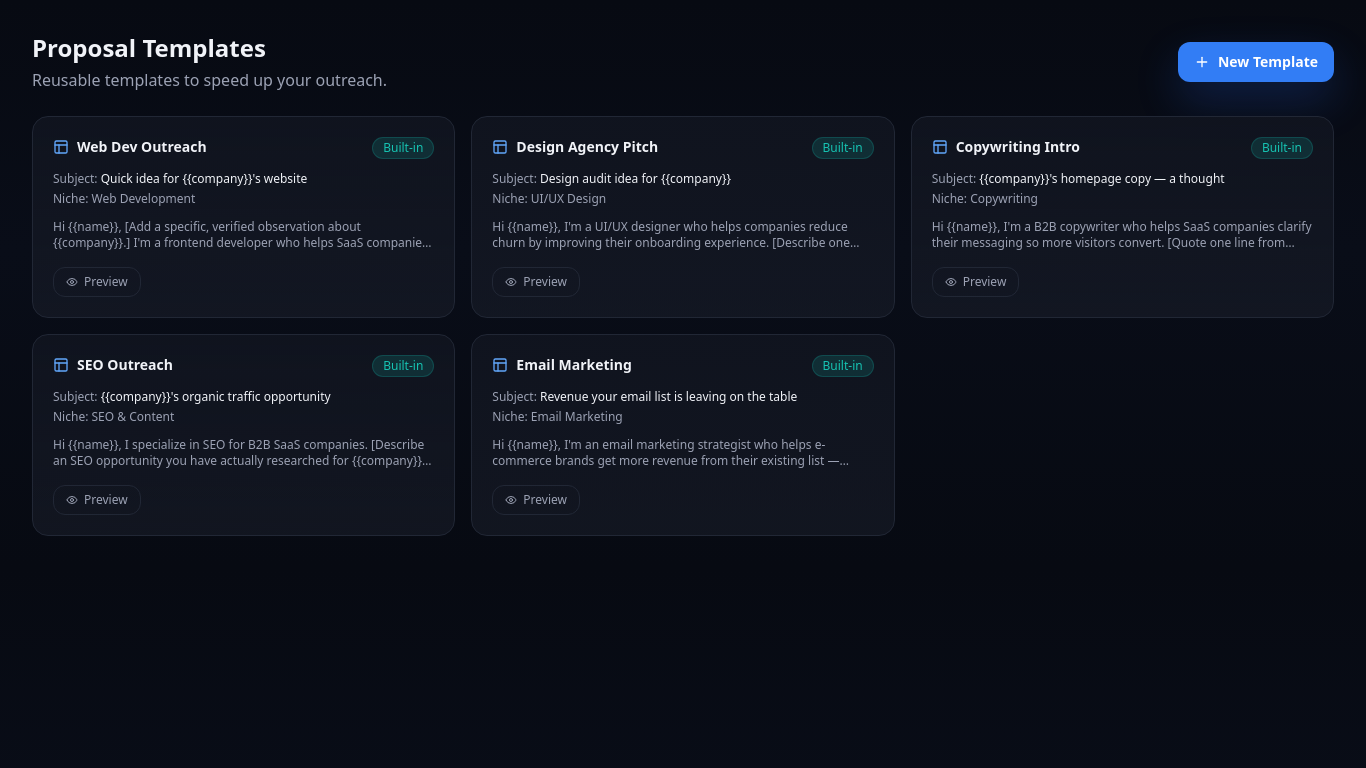
Scenario: keeps an unsaved draft when creation fails
The width and height of the screenshot is (1366, 768).
Expected: the text "Web Dev Outreach" is shown, [77,137,207,157]
Click the button "New Template" at (1256, 62), box [1178,42,1334,82]
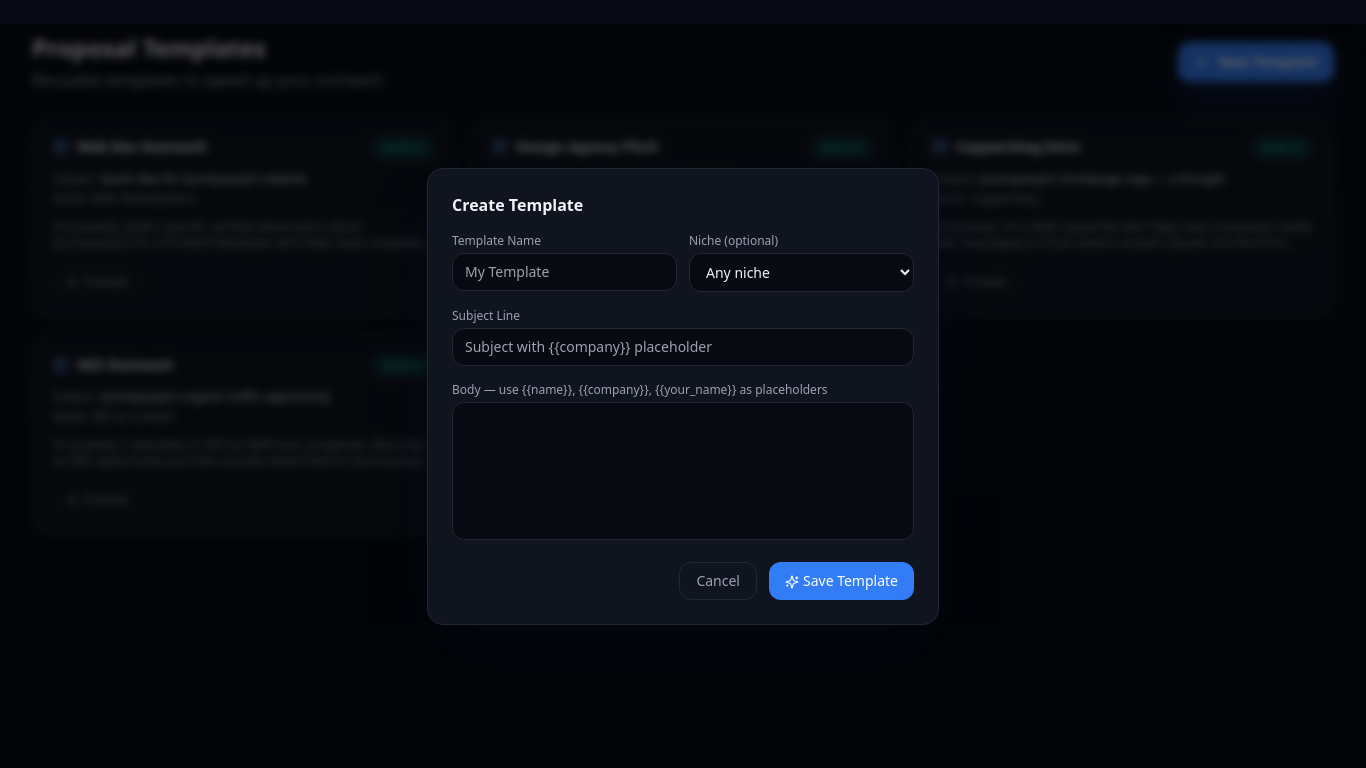
Type "My draft" into the field named "Template Name" at (564, 272), box [452,252,677,290]
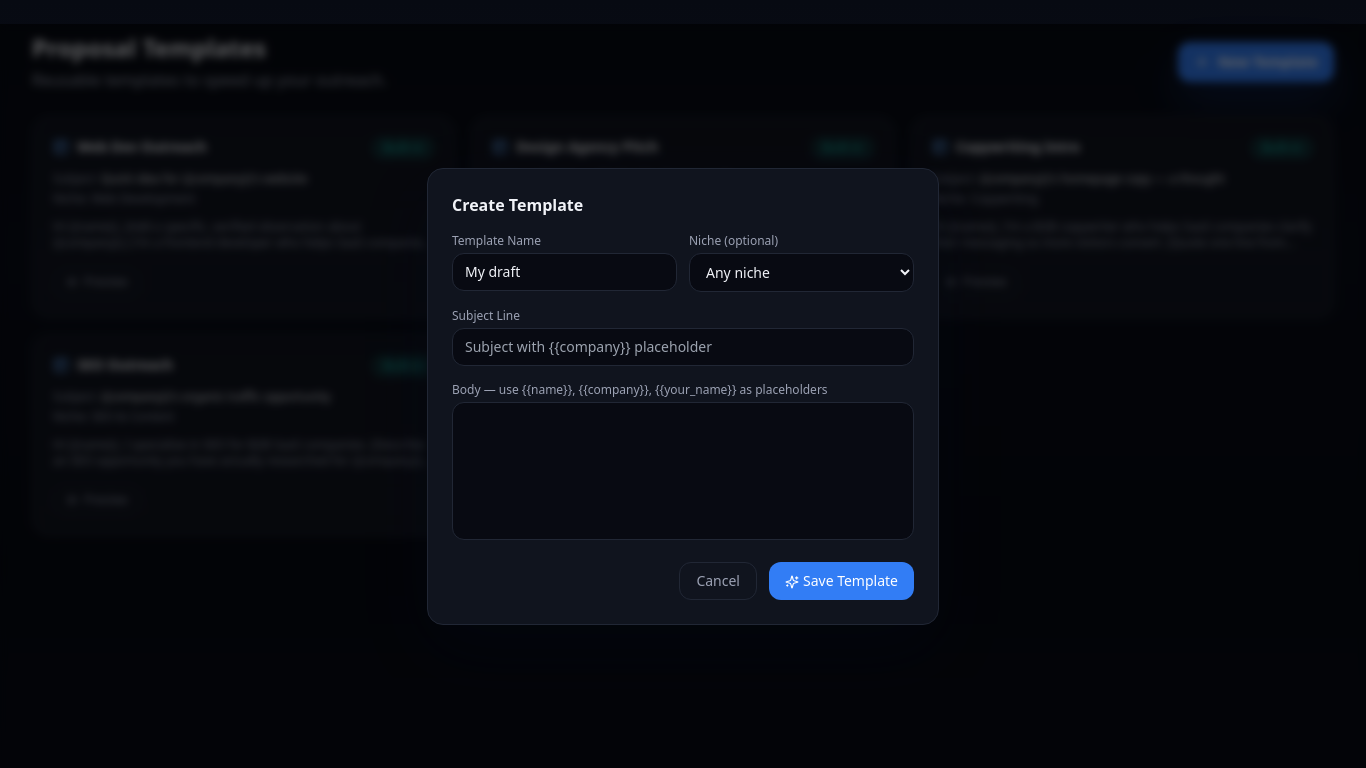
Type "A useful subject" into the field named "Subject Line" at (683, 346), box [452,328,914,366]
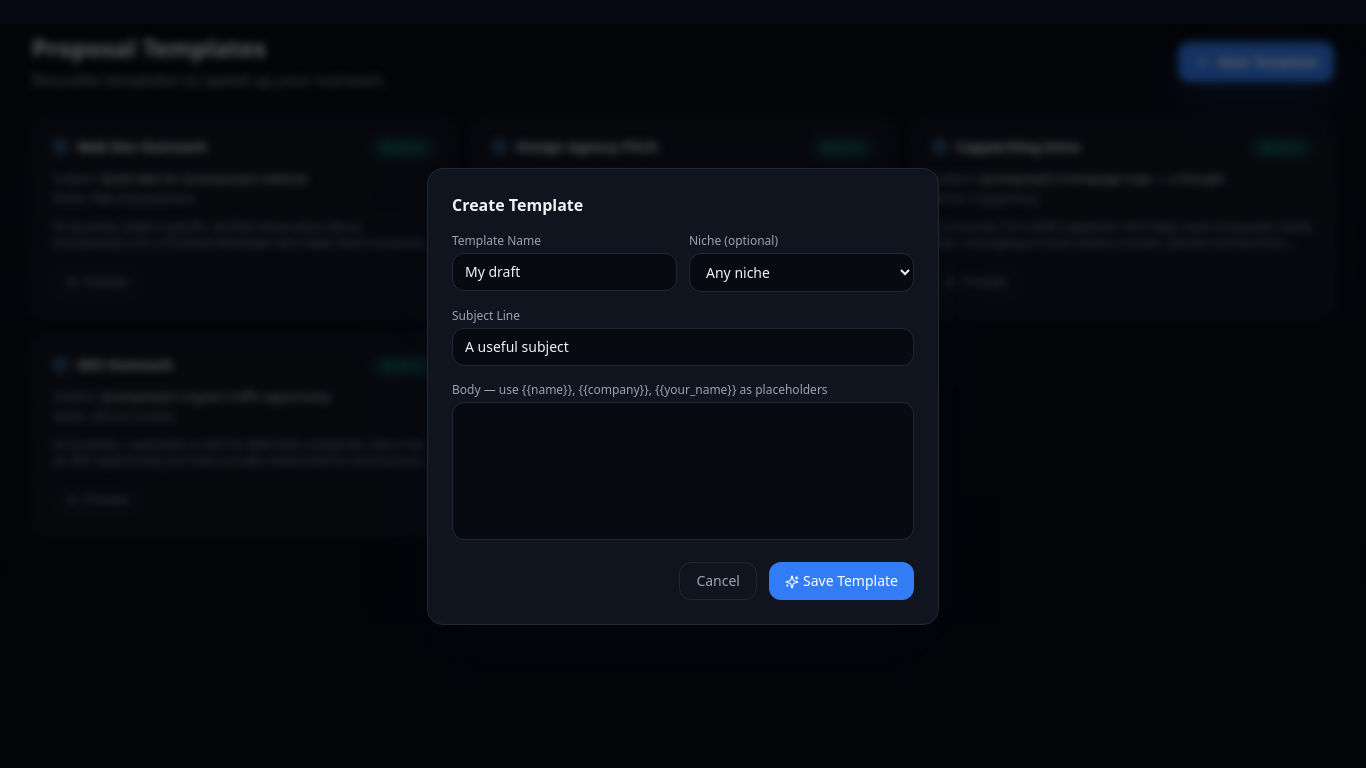
Type "My original draft text" into the text box named "Template Body" at (683, 470), box [452,402,914,540]
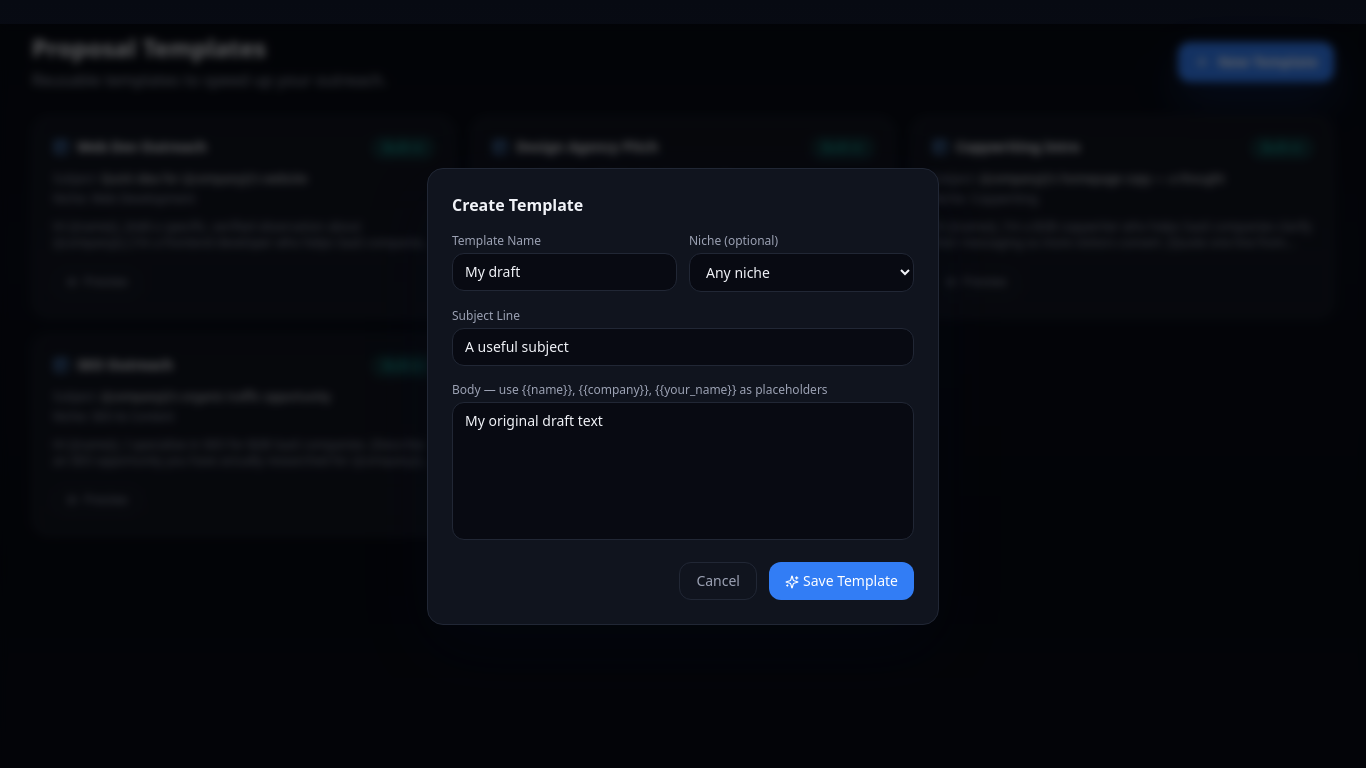
Click the button "Save Template" at (842, 580), box [769,562,914,600]
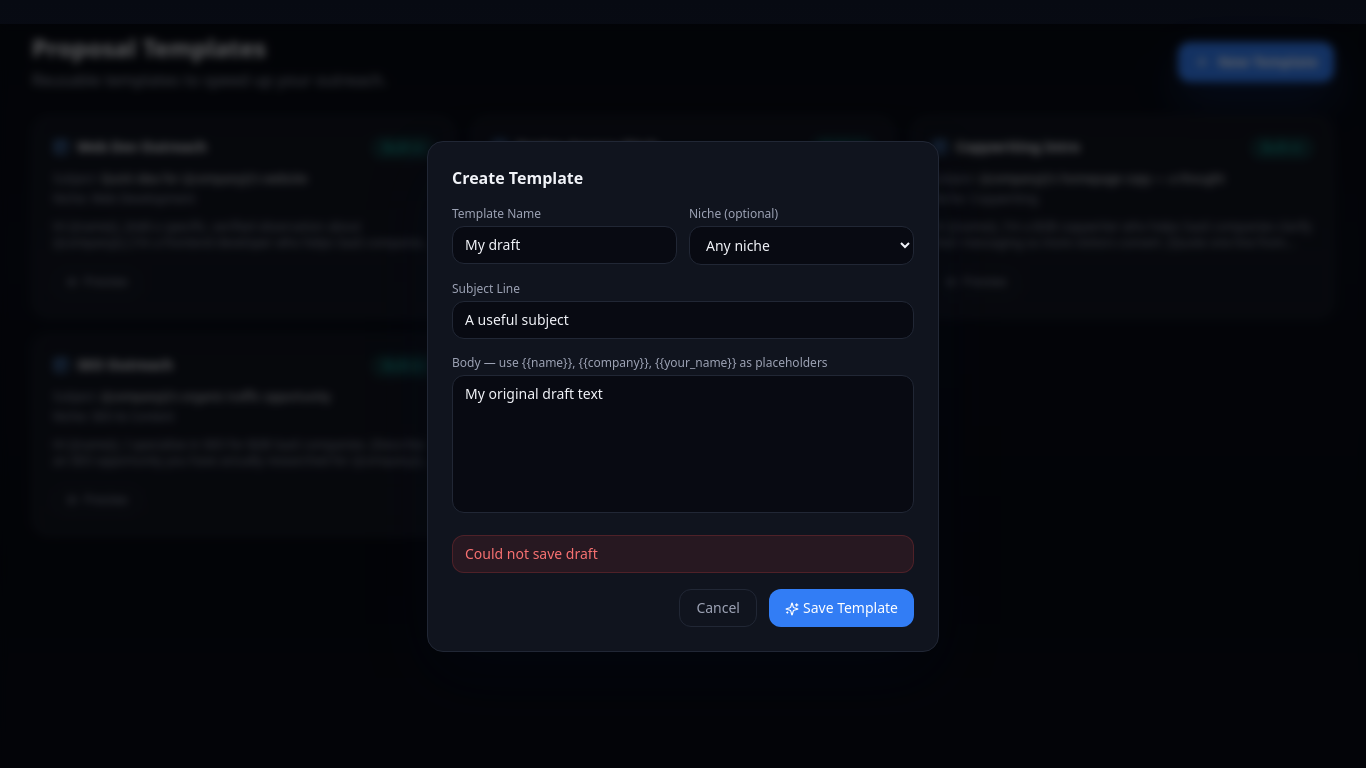
Expected: the message reads "Could not save draft", [465,544,598,562]
